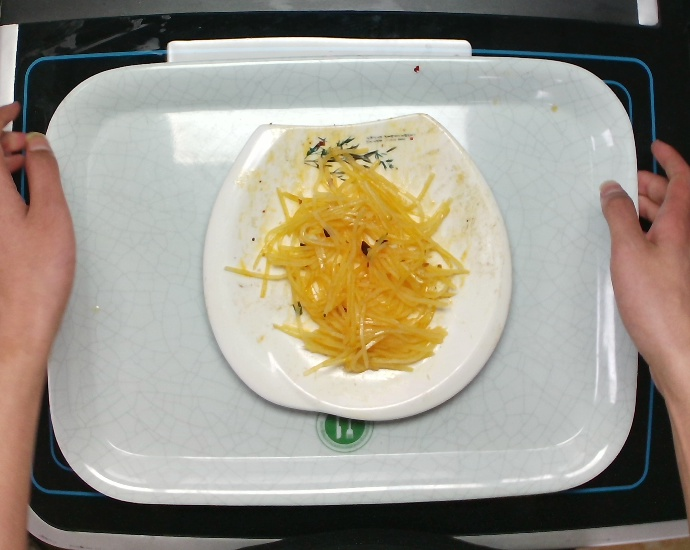JYsf-Mian_Pan: (201, 110, 513, 423)
